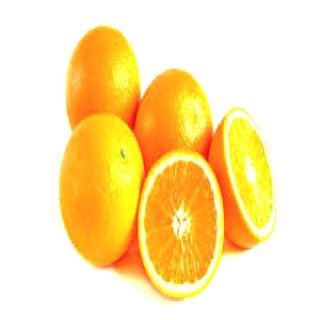orange: (131, 135, 231, 315), (59, 103, 140, 298), (49, 17, 147, 150), (206, 101, 286, 262), (128, 57, 219, 187)
